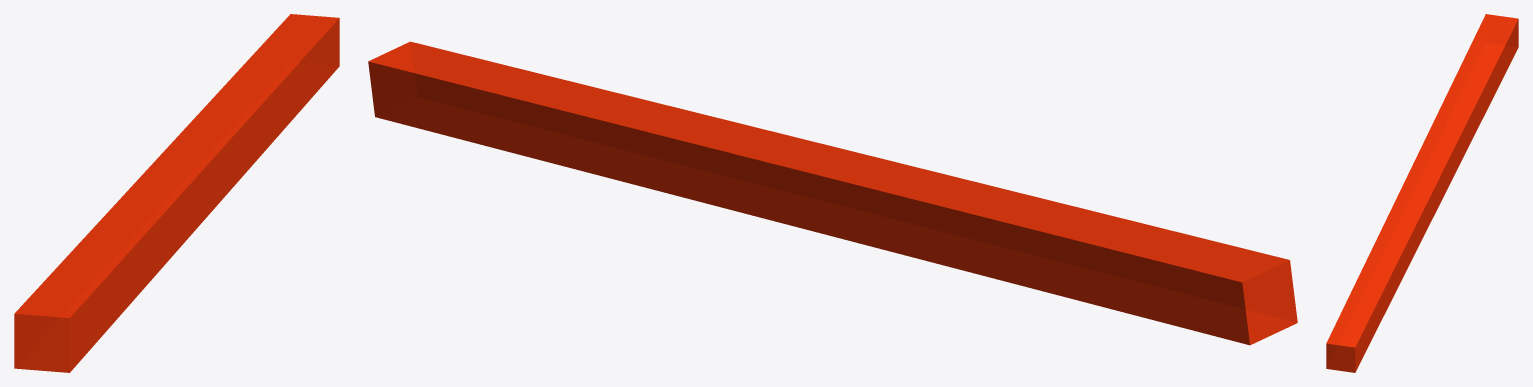
The model's file is Event_421556567_EErechit_5.fbx.
3 renders of one model, left to right at view 1: azimuth 90°, elevation 25°; view 2: azimuth 150°, elevation 25°; view 3: azimuth 270°, elevation 25°, orthographic. The views are drawn at different scales.
Parts seen in each view (by area): view 1: Model; view 2: Model; view 3: Model.
Part boxes in pixels (box(x1,y1,x2,y2)): Model: box(14, 14, 339, 372); Model: box(368, 41, 1297, 345); Model: box(1326, 14, 1518, 372).
Size of the model in its own units: 1.48 by 0.2769 by 0.4649.
